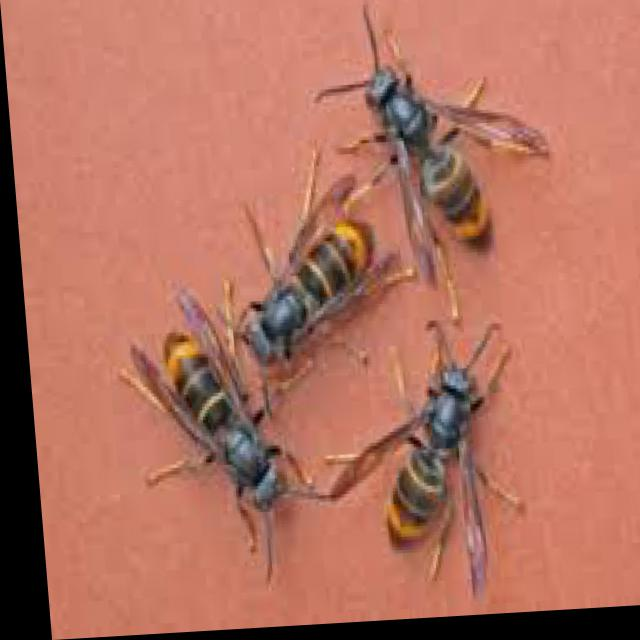Vespa Velutina: (299, 0, 559, 339), (308, 320, 548, 623)
